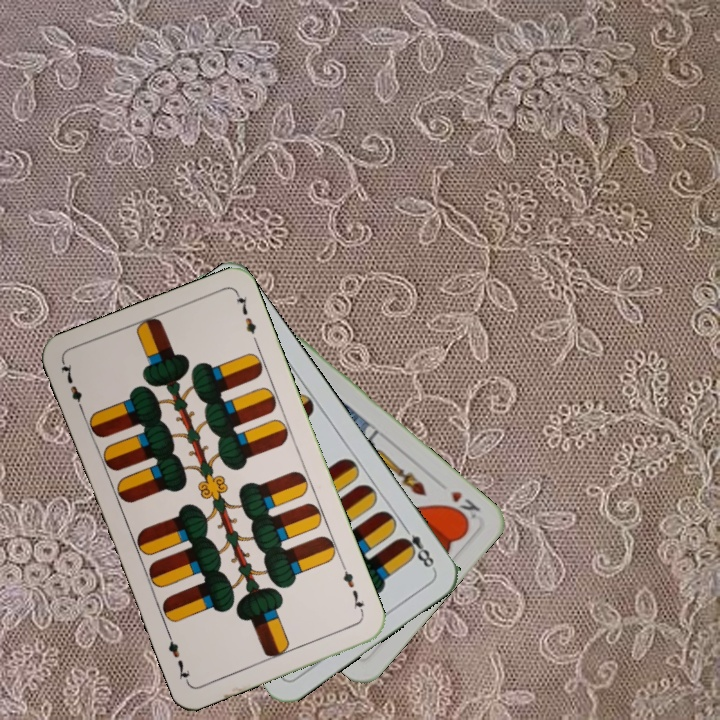E7: (337, 561, 367, 618), (57, 358, 87, 415)
E8: (396, 521, 438, 573)
HK: (447, 487, 483, 522)
